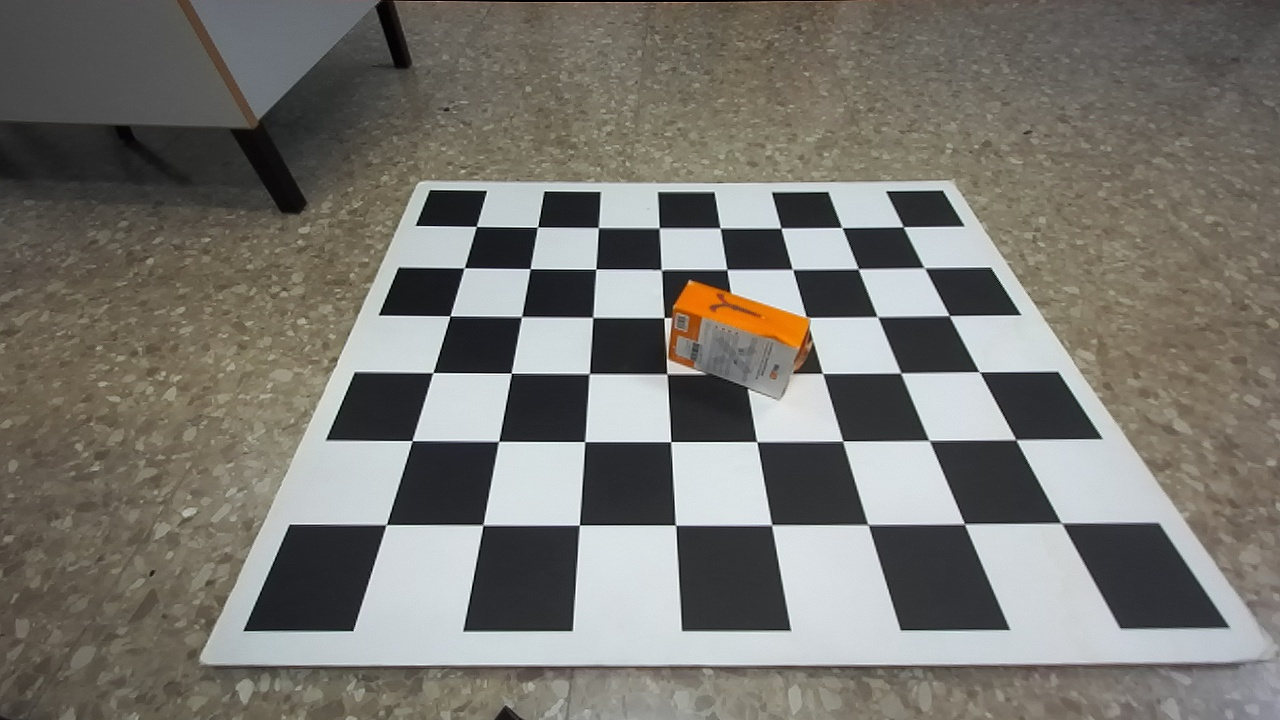caja_pcb: (668, 282, 811, 397)
